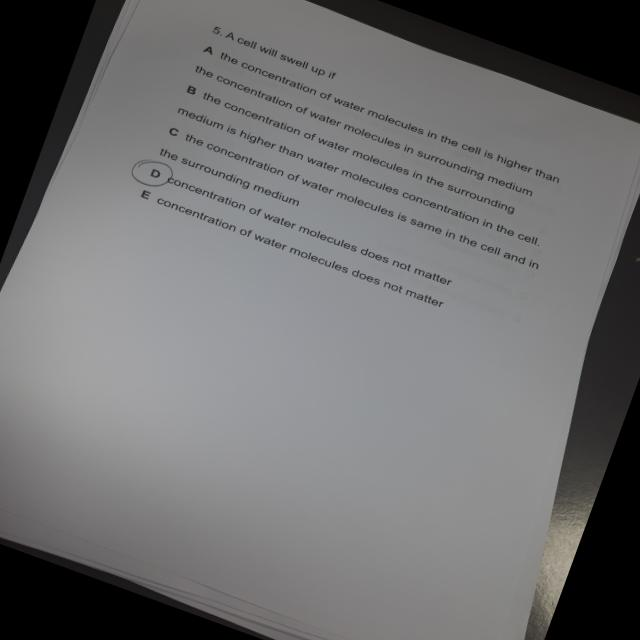D: (126, 151, 181, 196)
